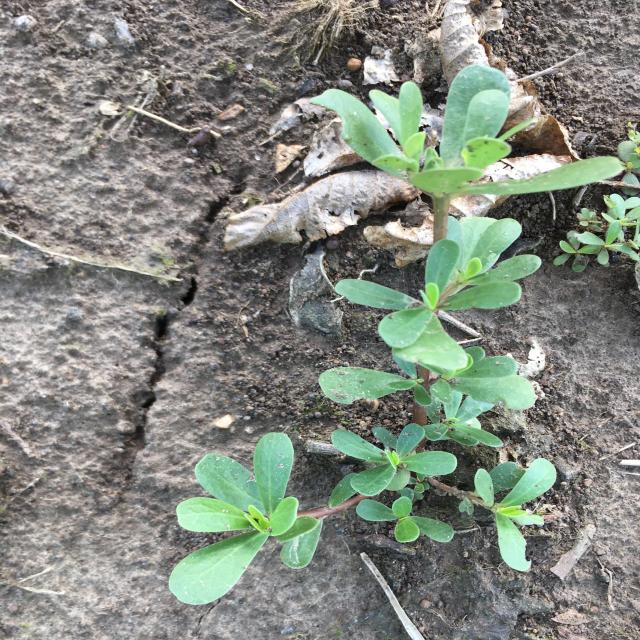Purslane: (169, 64, 622, 606), (553, 128, 640, 272)
